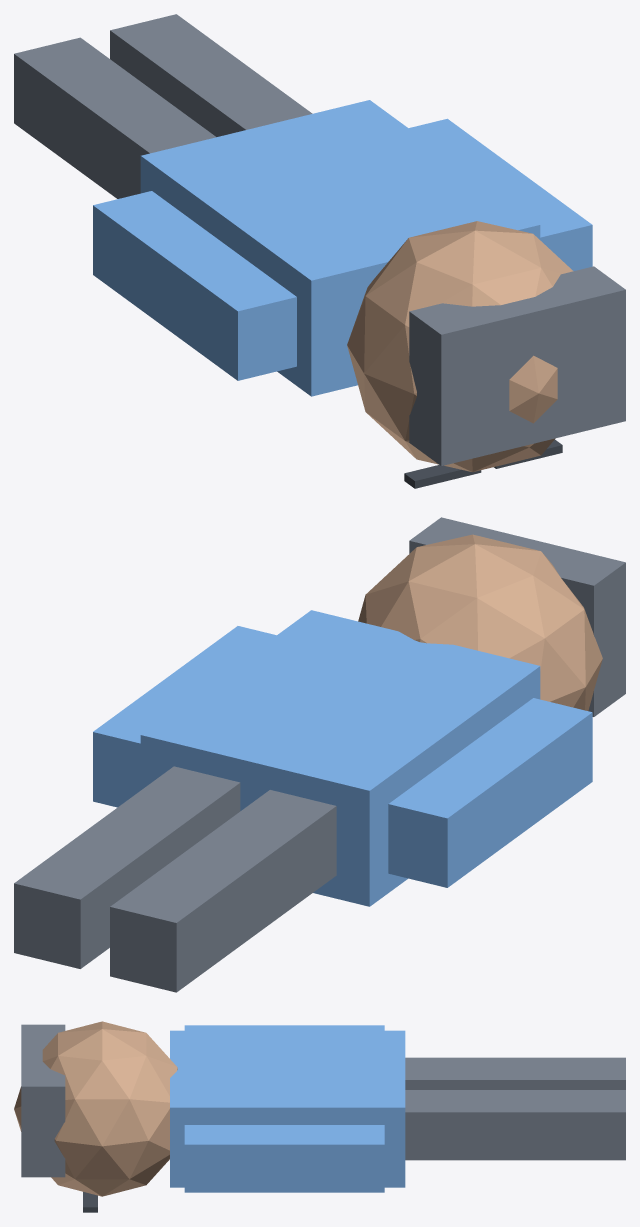
File: junior_variant_3.glb
3 renders of one model, top to bottom at view 1: azimuth 30°, elevation 25°; view 2: azimuth 150°, elevation 25°; view 3: azimuth 270°, elevation 25°, orthographic. The views are drawn at different scales.
Visible parts, largest first — view 1: torso_2, hair_6, head_5, arm_l_3, leg_l_0, leg_r_1, arm_r_4, glasses_l_7; view 2: torso_2, leg_l_0, head_5, arm_l_3, leg_r_1, arm_r_4, hair_6; view 3: torso_2, head_5, leg_r_1, arm_r_4, leg_l_0, hair_6, arm_l_3, glasses_r_8.
Part boxes in pixels (x1=…): torso_2: x1=140, y1=100, x2=540, y2=396; hair_6: x1=409, y1=266, x2=625, y2=466; head_5: x1=347, y1=221, x2=573, y2=472; arm_l_3: x1=93, y1=191, x2=296, y2=380; leg_l_0: x1=14, y1=37, x2=216, y2=198; leg_r_1: x1=110, y1=14, x2=312, y2=136; arm_r_4: x1=409, y1=118, x2=592, y2=270; glasses_l_7: x1=404, y1=465, x2=481, y2=488; torso_2: x1=140, y1=610, x2=540, y2=906; leg_l_0: x1=110, y1=790, x2=336, y2=992; head_5: x1=358, y1=534, x2=602, y2=710; arm_l_3: x1=388, y1=698, x2=592, y2=887; leg_r_1: x1=14, y1=766, x2=240, y2=968; arm_r_4: x1=93, y1=626, x2=276, y2=807; hair_6: x1=409, y1=517, x2=625, y2=716; torso_2: x1=170, y1=1030, x2=405, y2=1187; head_5: x1=14, y1=1021, x2=177, y2=1196; leg_r_1: x1=405, y1=1090, x2=625, y2=1160; arm_r_4: x1=184, y1=1125, x2=384, y2=1192; leg_l_0: x1=405, y1=1057, x2=625, y2=1089; hair_6: x1=21, y1=1024, x2=65, y2=1177; arm_l_3: x1=184, y1=1025, x2=384, y2=1030; glasses_r_8: x1=83, y1=1192, x2=97, y2=1212.
Bounding box in the file's own units: 0.96 × 0.6 × 2.08.
